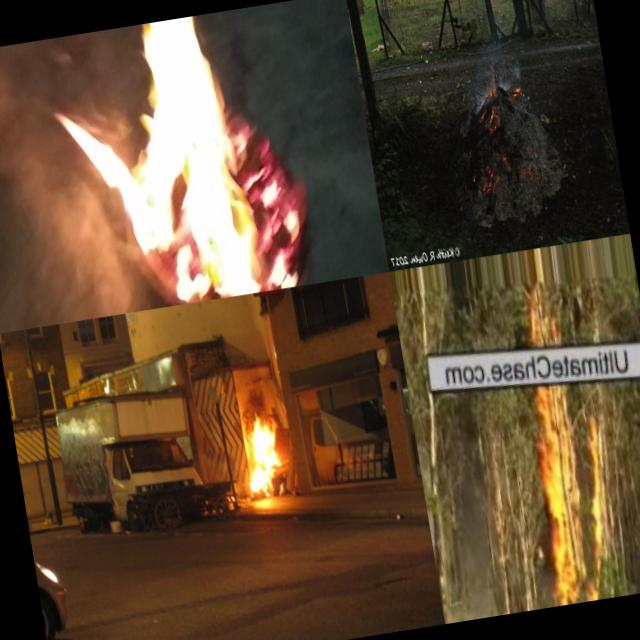fire: (46, 4, 312, 319), (526, 392, 626, 602), (238, 393, 290, 493), (480, 162, 501, 195), (485, 107, 501, 136), (486, 64, 498, 98), (511, 84, 522, 98)
smoke: (495, 54, 523, 88), (473, 80, 489, 108)
